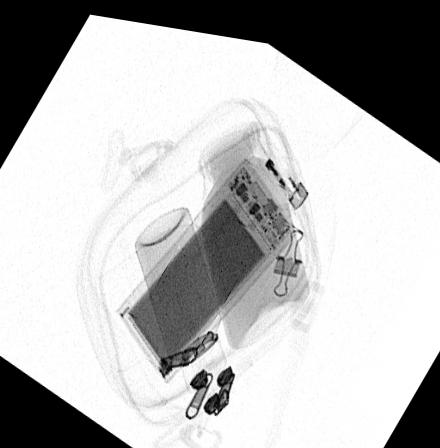Lighter: (237, 113, 311, 202)
Powerbank: (116, 150, 295, 377)
Sprayer: (133, 200, 225, 386)
